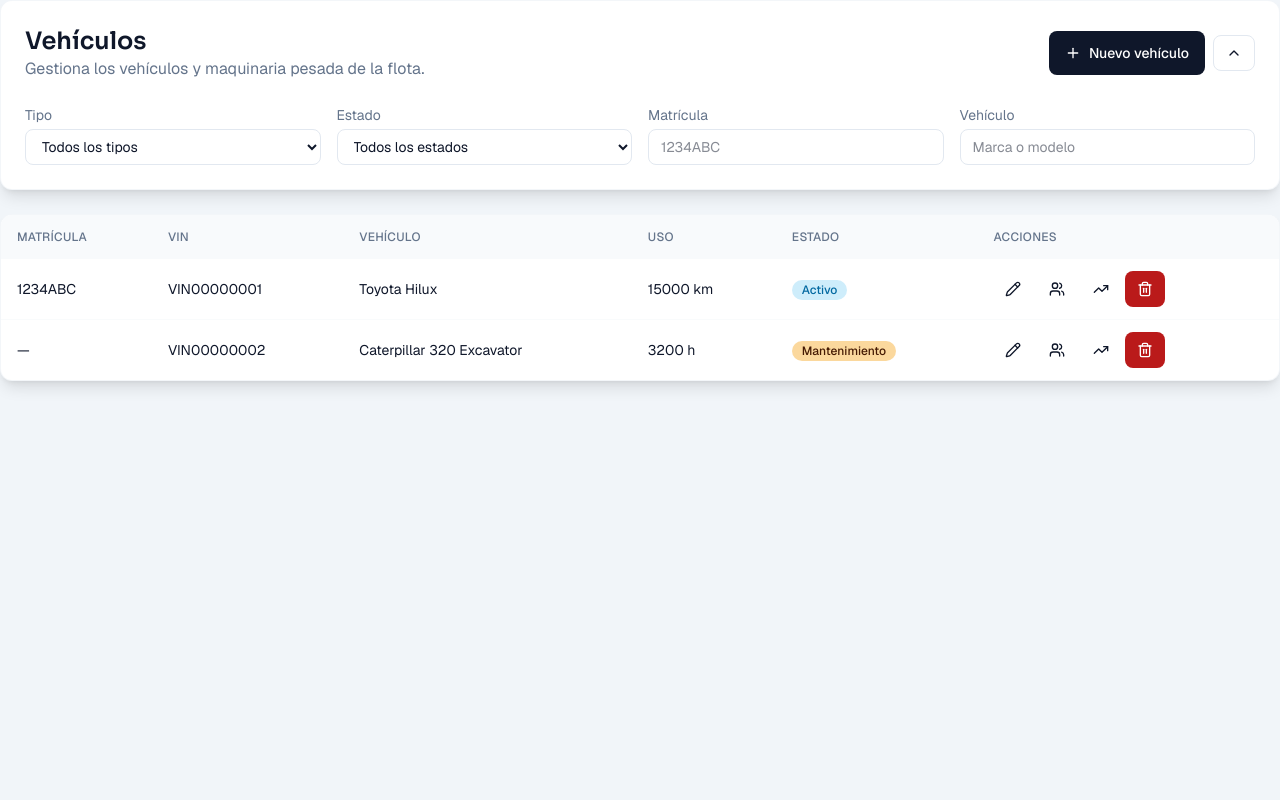
Scenario: Vehicles › shows full unfiltered history in all three sections when no Desde/Hasta is set
The width and height of the screenshot is (1280, 800).
Expected: the text "Toyota Hilux" is shown, [343, 259, 632, 320]
Click the button named "Ver rentabilidad" in the row of "1234ABC": [1101, 289] box [1081, 271, 1121, 307]
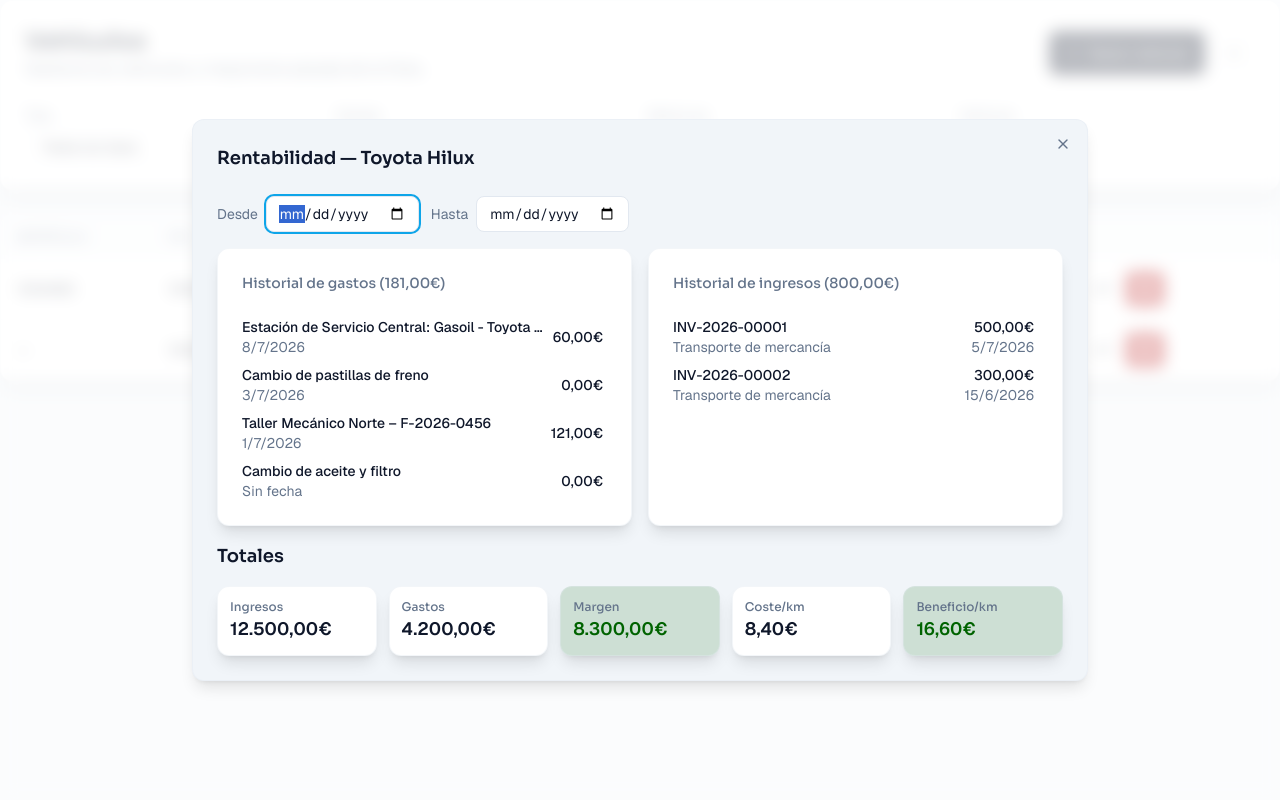
Expected: the text "Cambio de aceite y filtro" is shown, [242, 461, 401, 481]
Expected: the text "Cambio de pastillas de freno" is shown, [242, 365, 429, 385]
Expected: the text "Taller Mecánico Norte – F-2026-0456" is shown, [242, 413, 491, 433]
